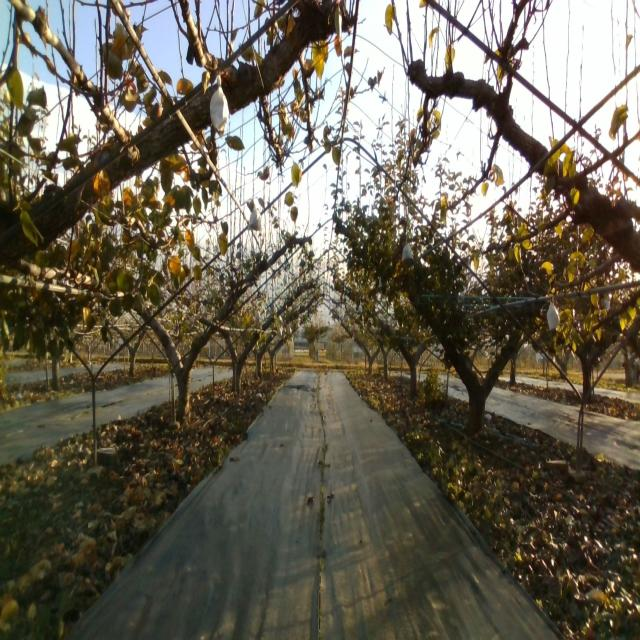pearbags: (209, 74, 230, 139), (546, 300, 560, 333), (246, 208, 263, 232), (401, 243, 413, 263)
